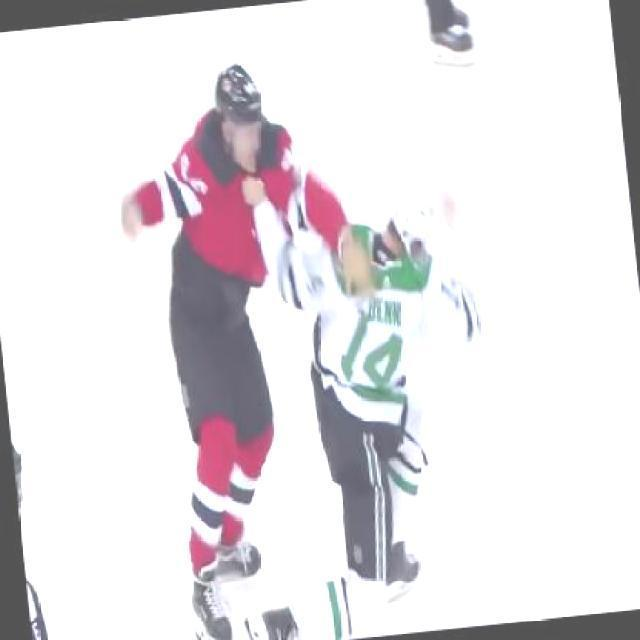fight: (100, 36, 517, 638)
